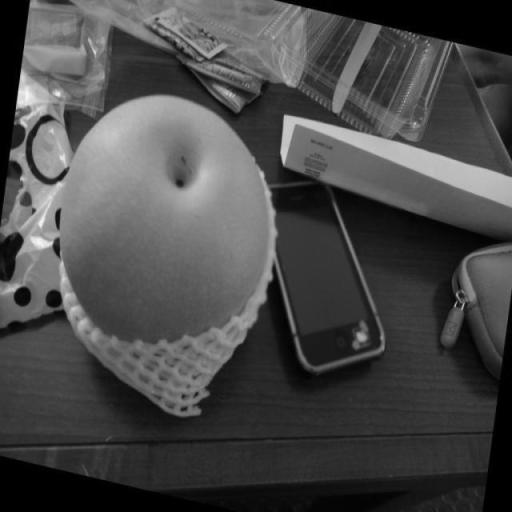phone: (272, 181, 386, 380)
